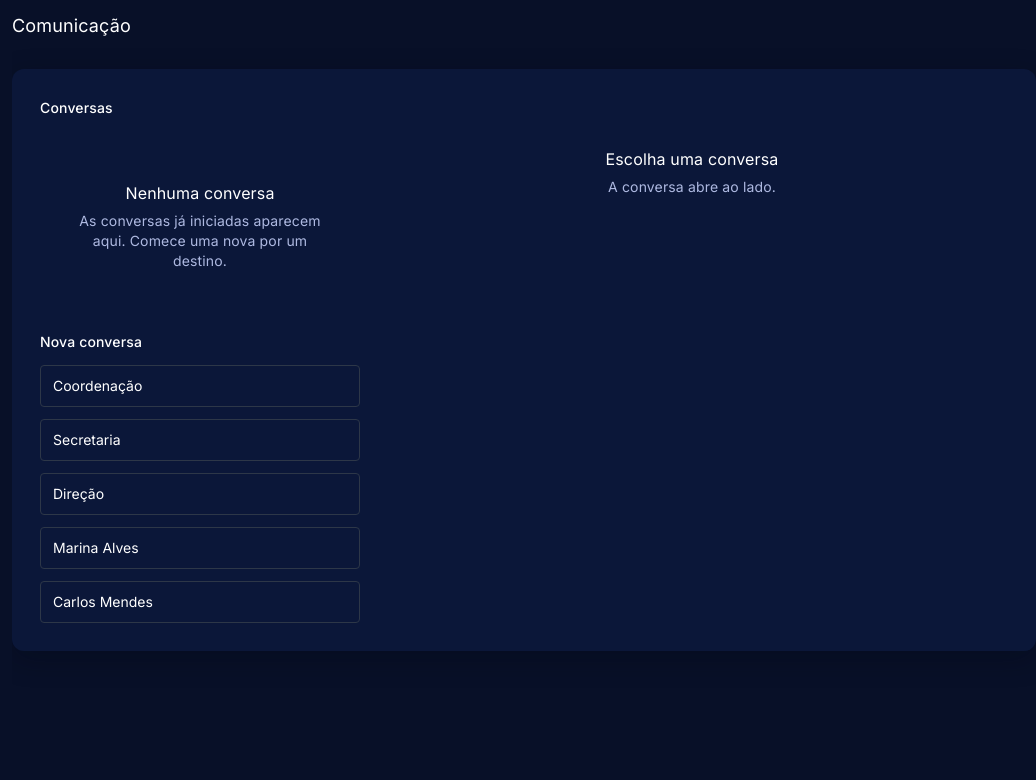
Test: FamilyCommunication › lists coordination, secretary, director, and each teacher when the family has one child
Expected: the button "Coordenação" is shown, [40,365,360,407]
Expected: the button "Secretaria" is shown, [40,419,360,461]
Step 1. Click the button "Marina Alves" → point(96, 547), box [40,527,360,569]
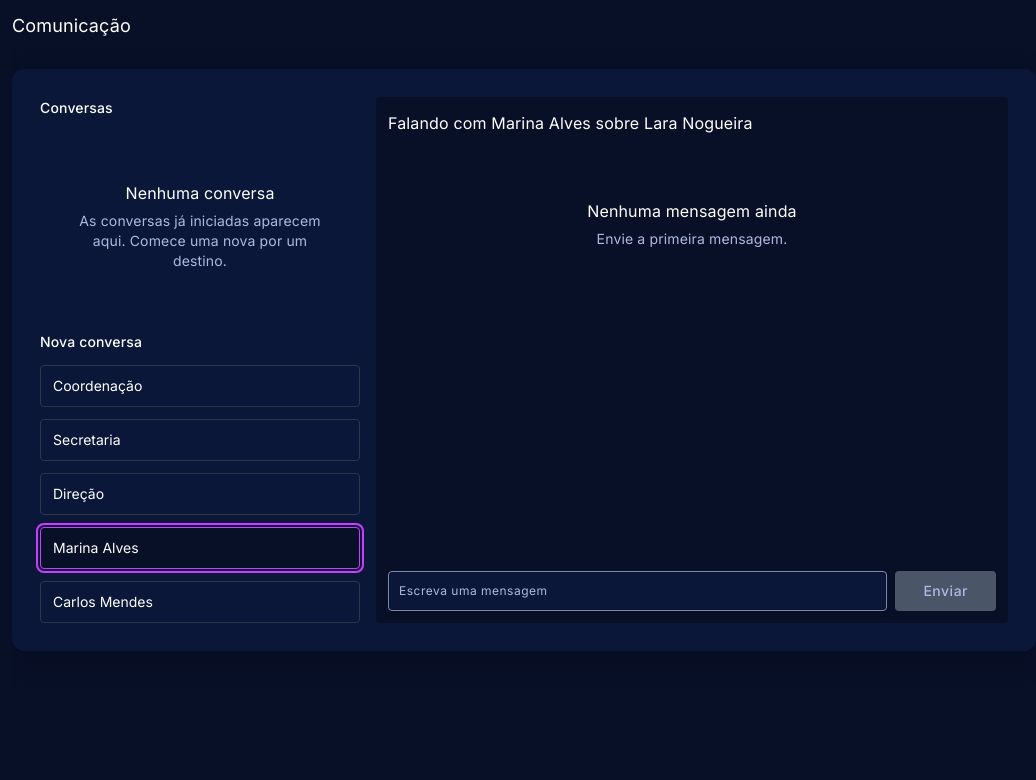
Expected: the field with placeholder "Escreva uma mensagem" is shown, [399,582,876,600]
Expected: the button "Enviar" is shown, [895,571,996,611]
